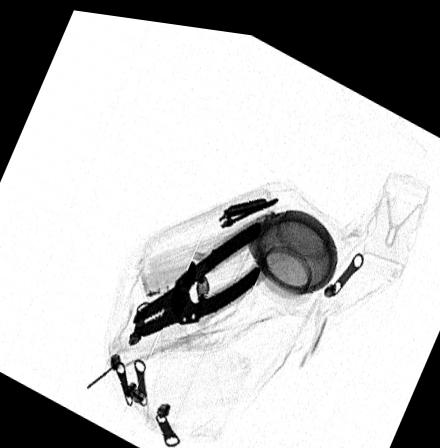Pliers: (131, 211, 263, 334)
